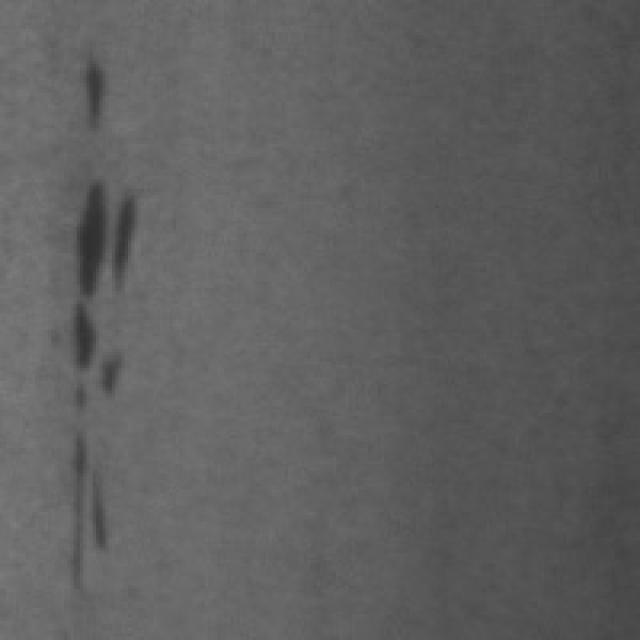inclusion: (55, 294, 132, 592), (58, 166, 140, 301), (67, 48, 112, 138)
